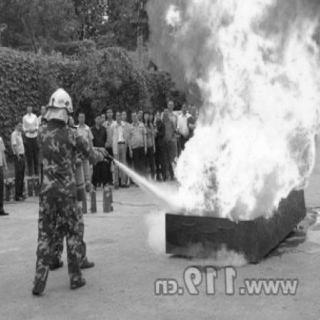Fire: (154, 2, 320, 225)
other: (46, 86, 78, 116)
